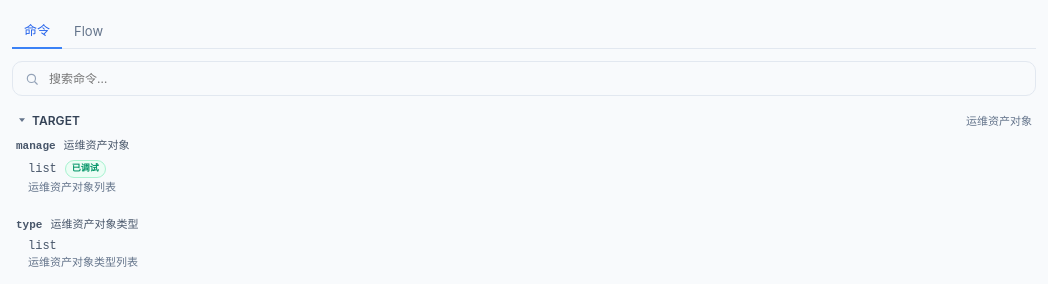
Scenario: CommandTree 两级分组 › 两级分组：搜索匹配子资源名/命令名，只保留命中资源
The width and height of the screenshot is (1048, 284).
Type "type" into the field with placeholder "搜索命令…" at (535, 78), box [47,70,1023,87]
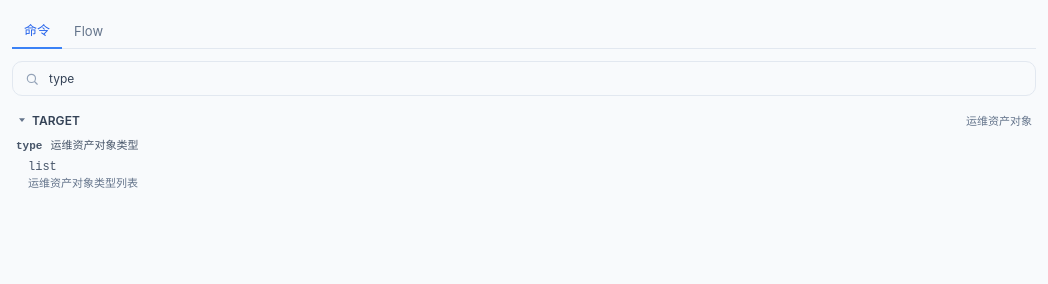
Expected: the text "运维资产对象类型" is shown, [50,136,138,152]
Result: the number of buttons with test id "tree-item" is 1 at [12,154,1036,198]
Result: the button "已调试" is gone
